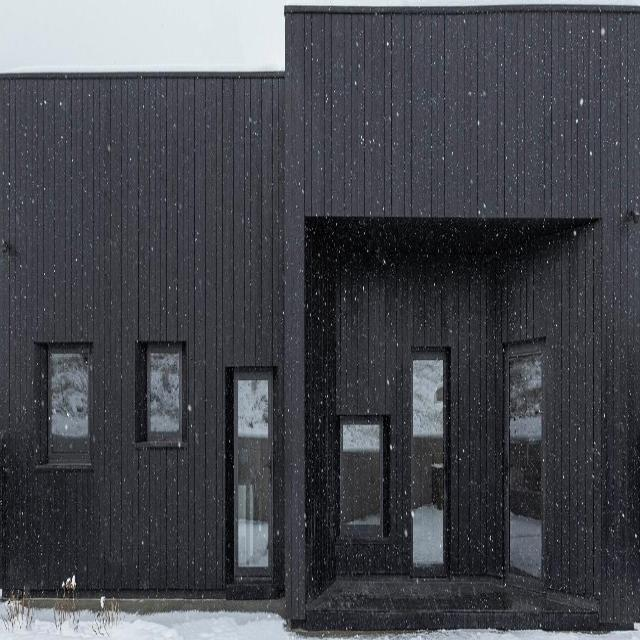door: (503, 339, 547, 581), (410, 345, 450, 579), (234, 372, 271, 579)
window: (340, 421, 384, 544), (50, 351, 90, 458), (145, 345, 182, 439)
